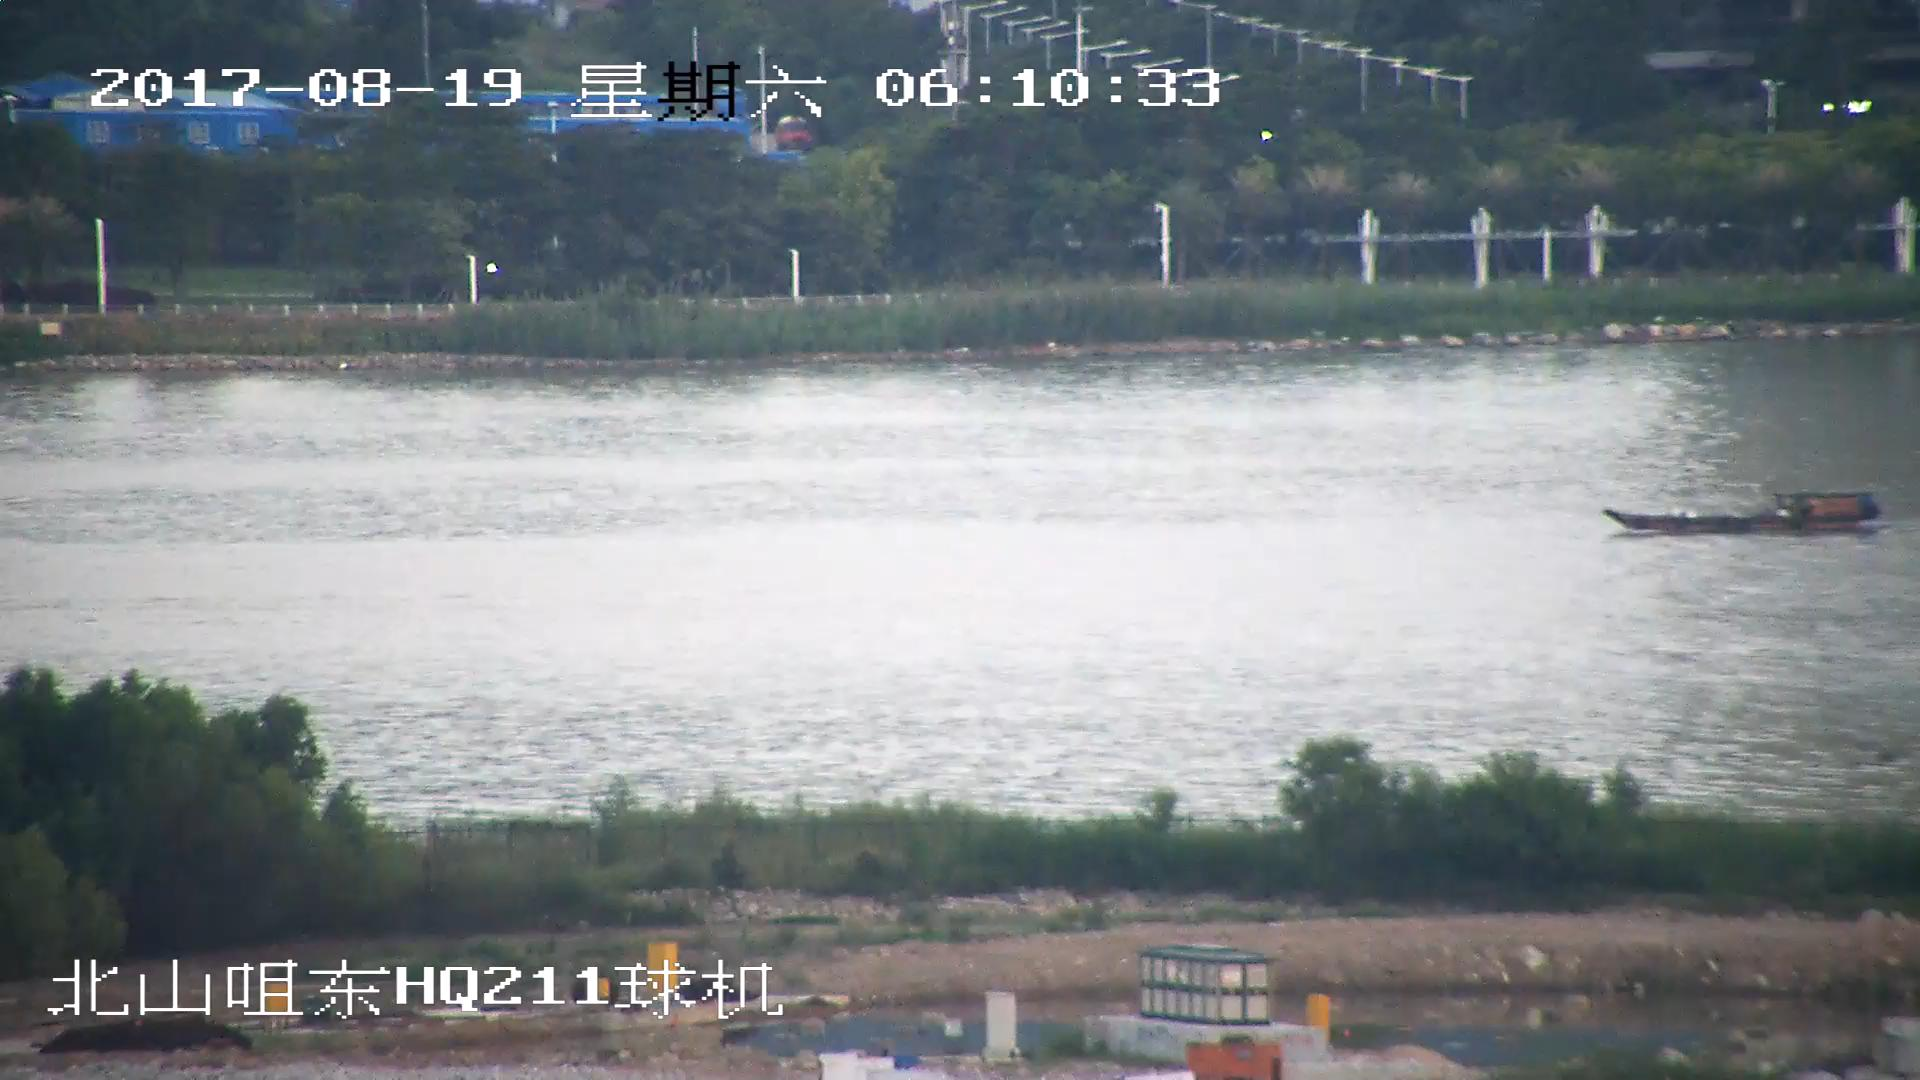fishing boat: (1604, 489, 1880, 538)
